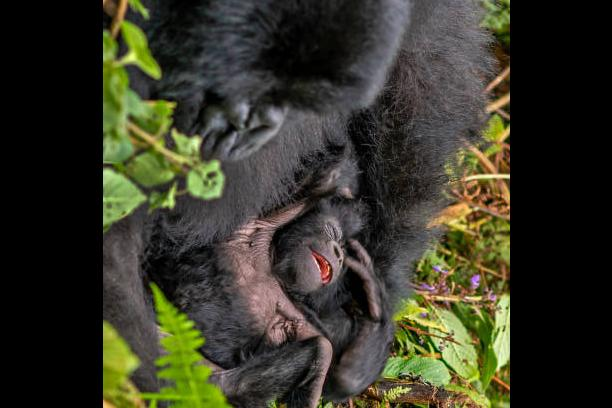goriile_montagne: (143, 0, 510, 233), (178, 167, 376, 408)
